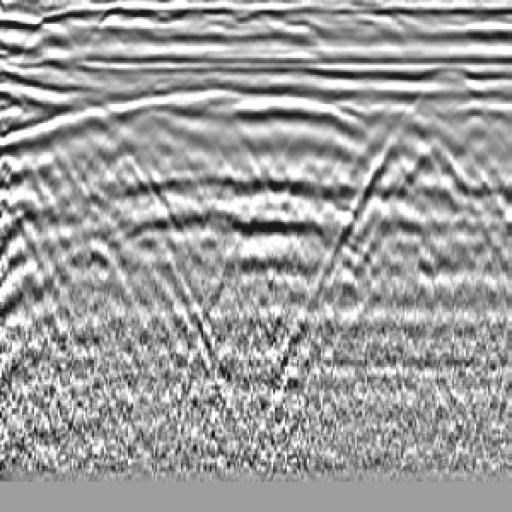non-metallic: (274, 56, 512, 353)
